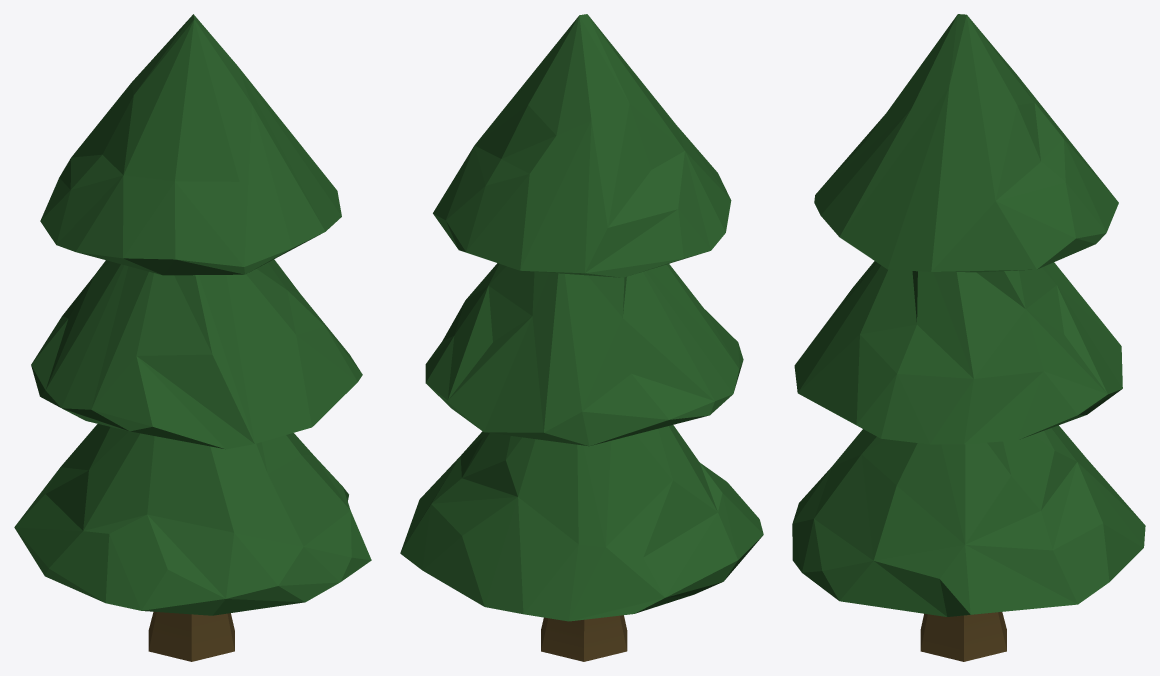
The model's file is LowPolyTree.fbx.
3 renders of one model, left to right at view 1: azimuth 30°, elevation 25°; view 2: azimuth 150°, elevation 25°; view 3: azimuth 270°, elevation 25°, orthographic.
Visible parts, largest first — view 1: Low_Poly_Tree_Mesh, Low_Poly_Trunk_Mesh; view 2: Low_Poly_Tree_Mesh, Low_Poly_Trunk_Mesh; view 3: Low_Poly_Tree_Mesh, Low_Poly_Trunk_Mesh.
Boxes of the visible parts, x1=… form: Low_Poly_Tree_Mesh: x1=14, y1=14, x2=371, y2=615; Low_Poly_Trunk_Mesh: x1=148, y1=611, x2=234, y2=661; Low_Poly_Tree_Mesh: x1=400, y1=14, x2=763, y2=621; Low_Poly_Trunk_Mesh: x1=541, y1=615, x2=627, y2=661; Low_Poly_Tree_Mesh: x1=792, y1=14, x2=1145, y2=616; Low_Poly_Trunk_Mesh: x1=920, y1=612, x2=1006, y2=661.
Size of the model in its own units: 527 by 1018 by 519.
